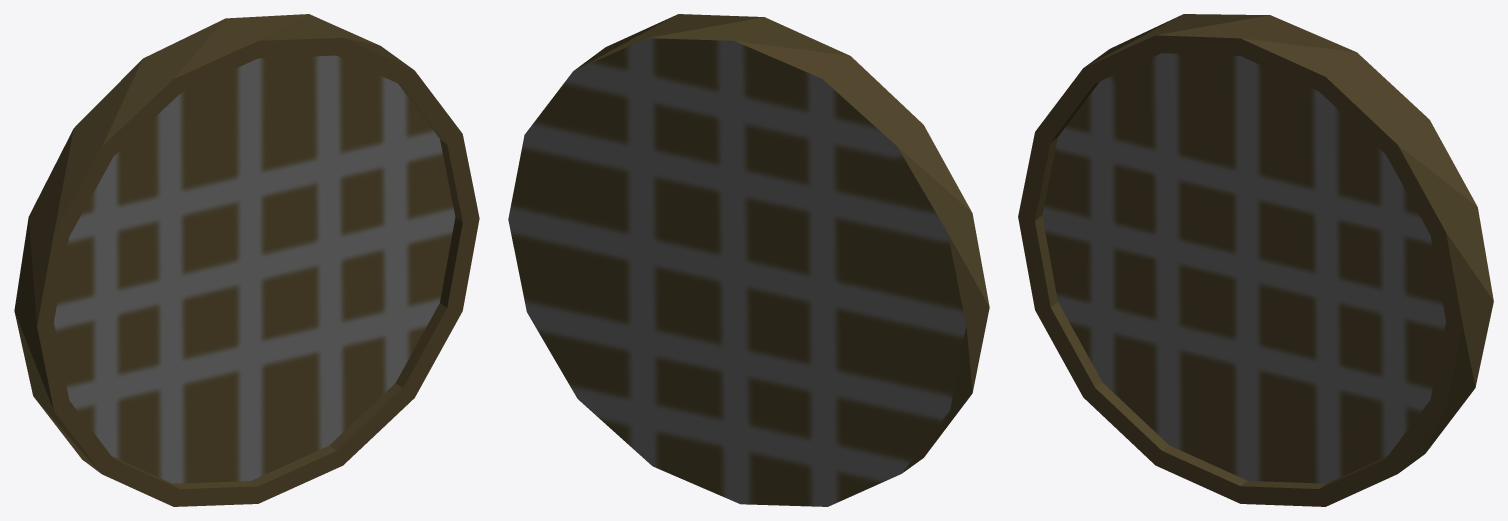
Rendered from BueiroAsset.fbx.
3 renders of one model, left to right at view 1: azimuth 30°, elevation 25°; view 2: azimuth 150°, elevation 25°; view 3: azimuth 330°, elevation 25°, orthographic.
Visible parts, largest first — view 1: Bueiro; view 2: Bueiro; view 3: Bueiro.
Boxes of the visible parts, x1,y1,x2,y2 form: Bueiro: (14,14,479,506); Bueiro: (508,14,989,506); Bueiro: (1018,14,1493,506).
Bounding box in the file's own units: 80 × 80 × 10.29.
